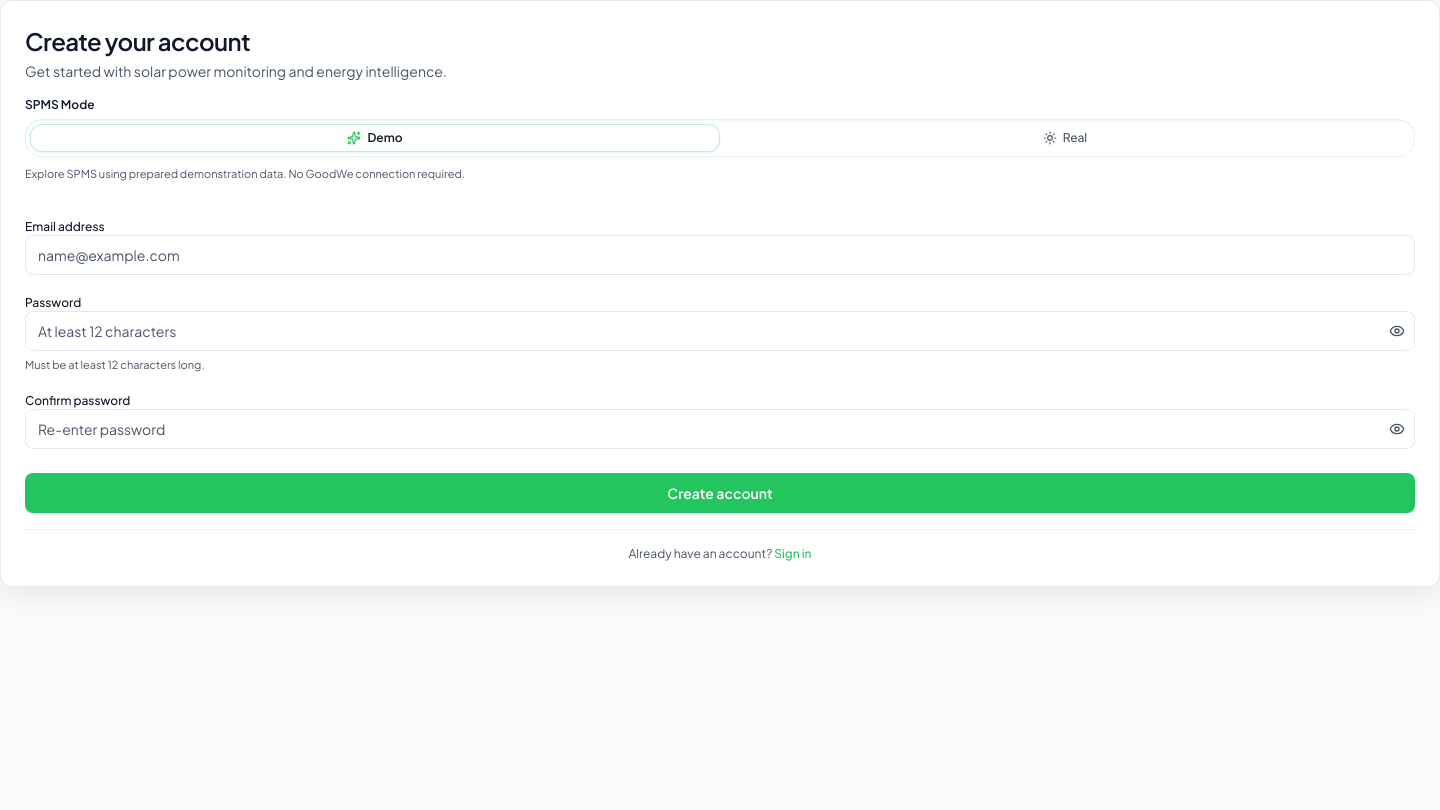
it: SPMS O2 Authentication Flow › Register page › validates required fields, email format, and password length client-side
The width and height of the screenshot is (1440, 810).
Click the button "Create account": (720, 493) [25, 473, 1415, 513]
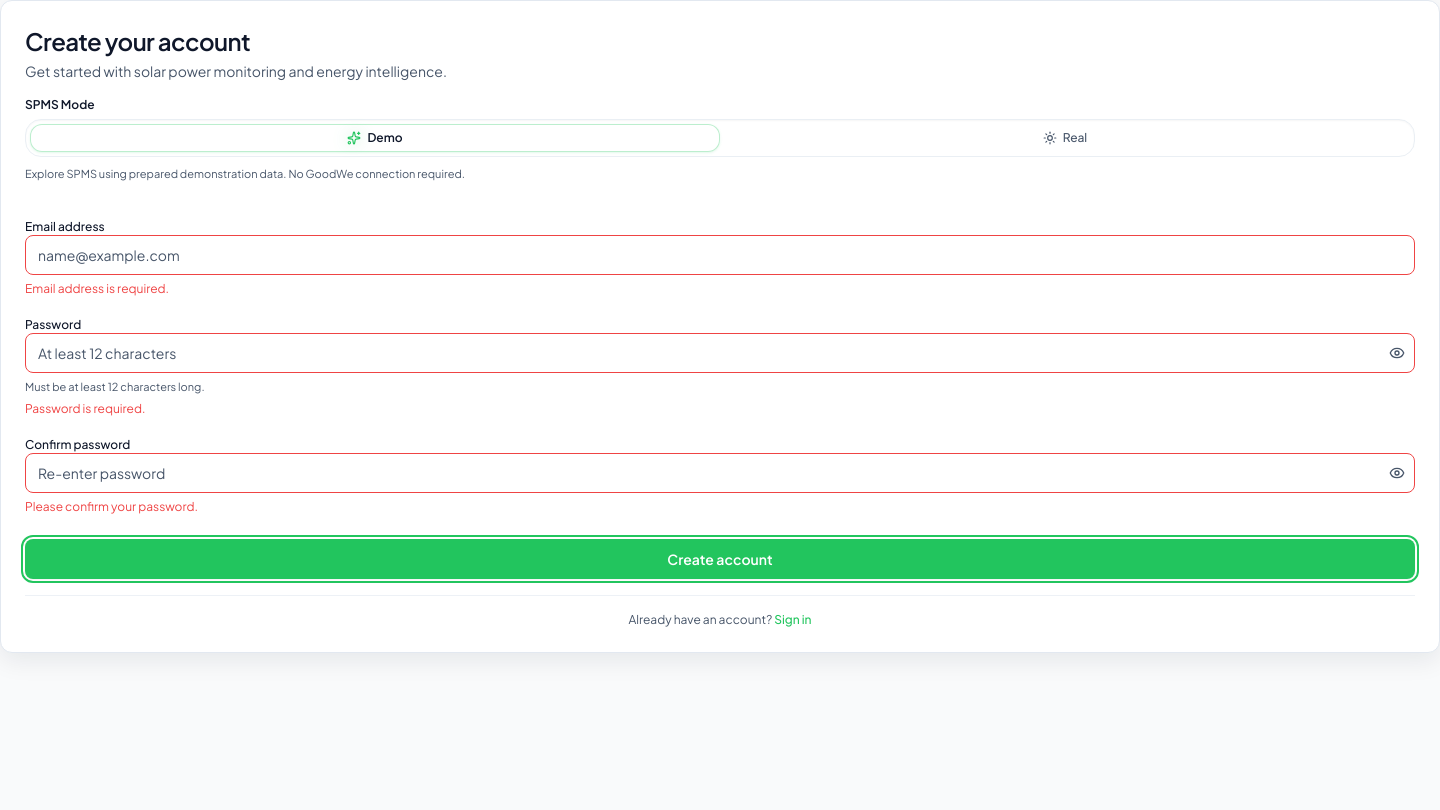
Expected: the text "Email address is required." is shown, [25, 281, 169, 296]
Expected: the text "Password is required." is shown, [25, 401, 145, 416]
// Invalid email
In the field labelled "Email address": (720, 255) [25, 235, 1415, 275], type "invalid-email"
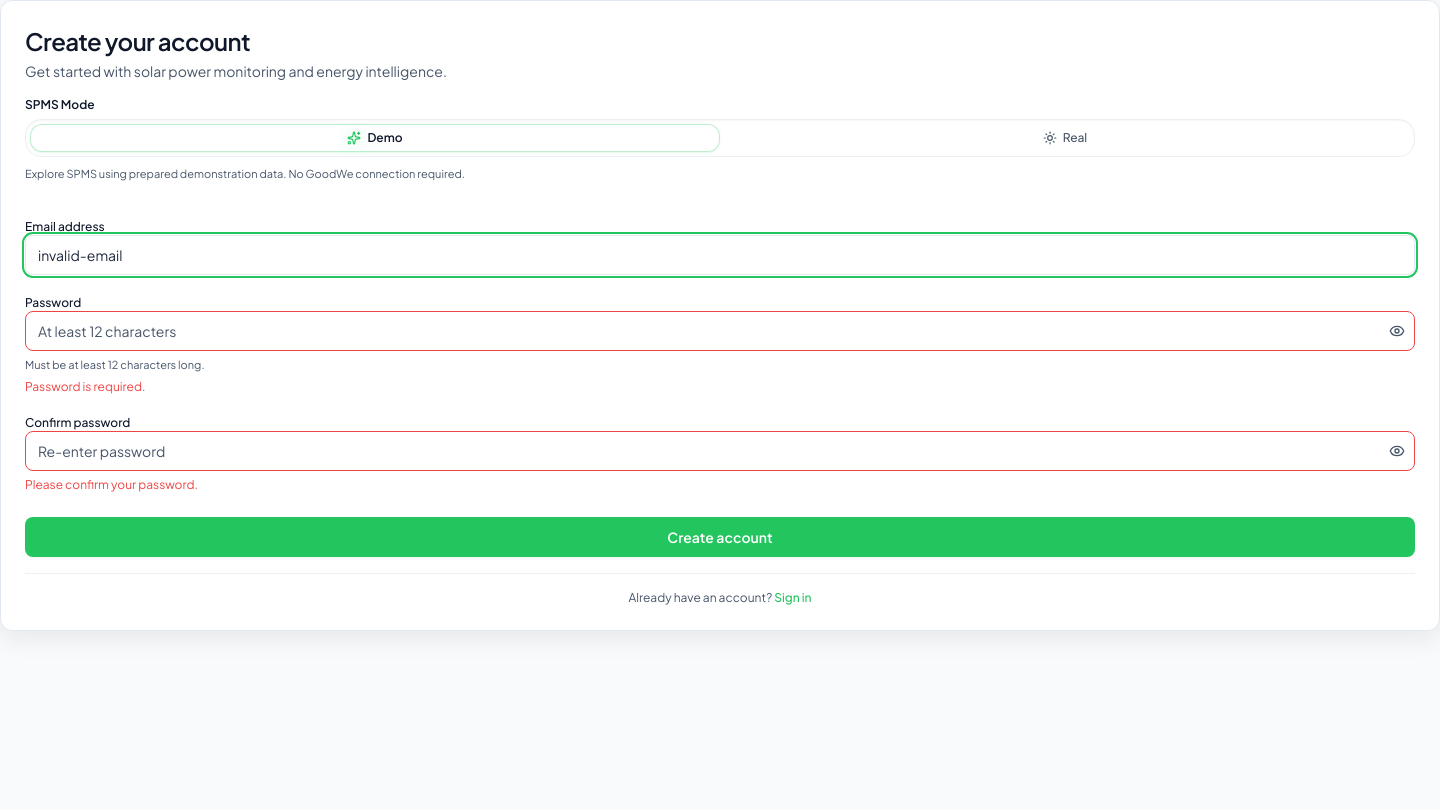
In the password field labelled "Password": (720, 331) [25, 311, 1415, 351], type "short12"
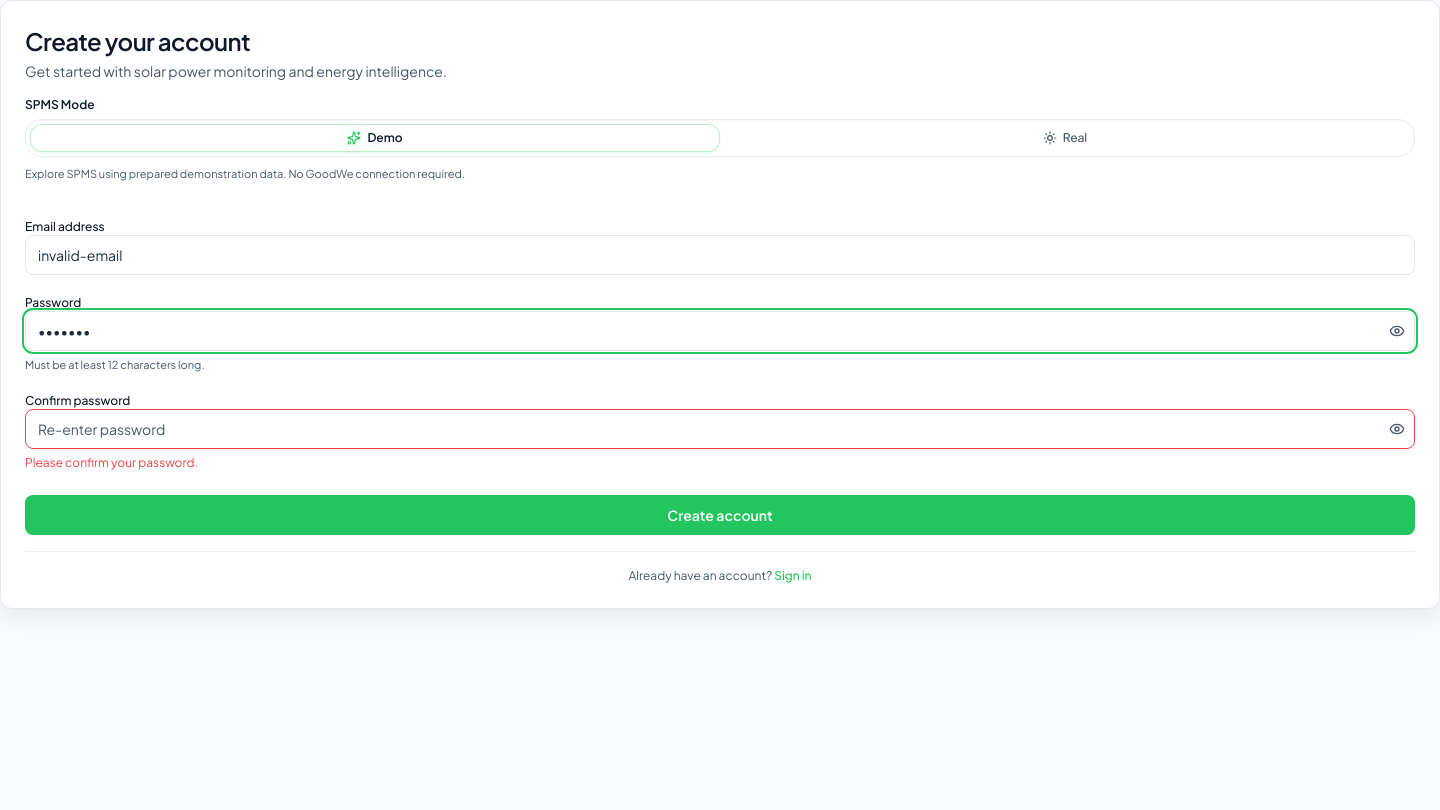
In the password field labelled "Confirm password": (720, 429) [25, 409, 1415, 449], type "different12"
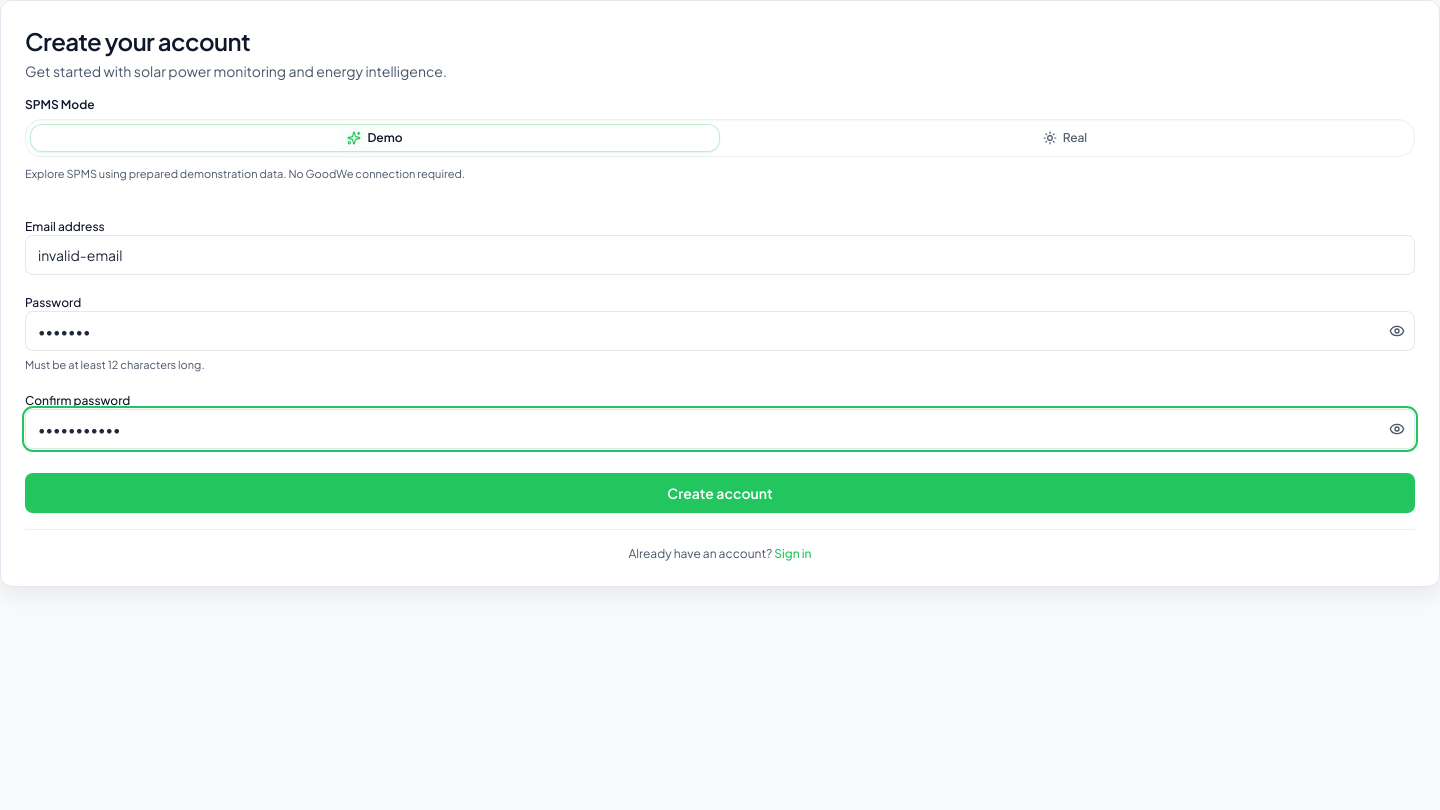
Click the button "Create account": (720, 493) [25, 473, 1415, 513]
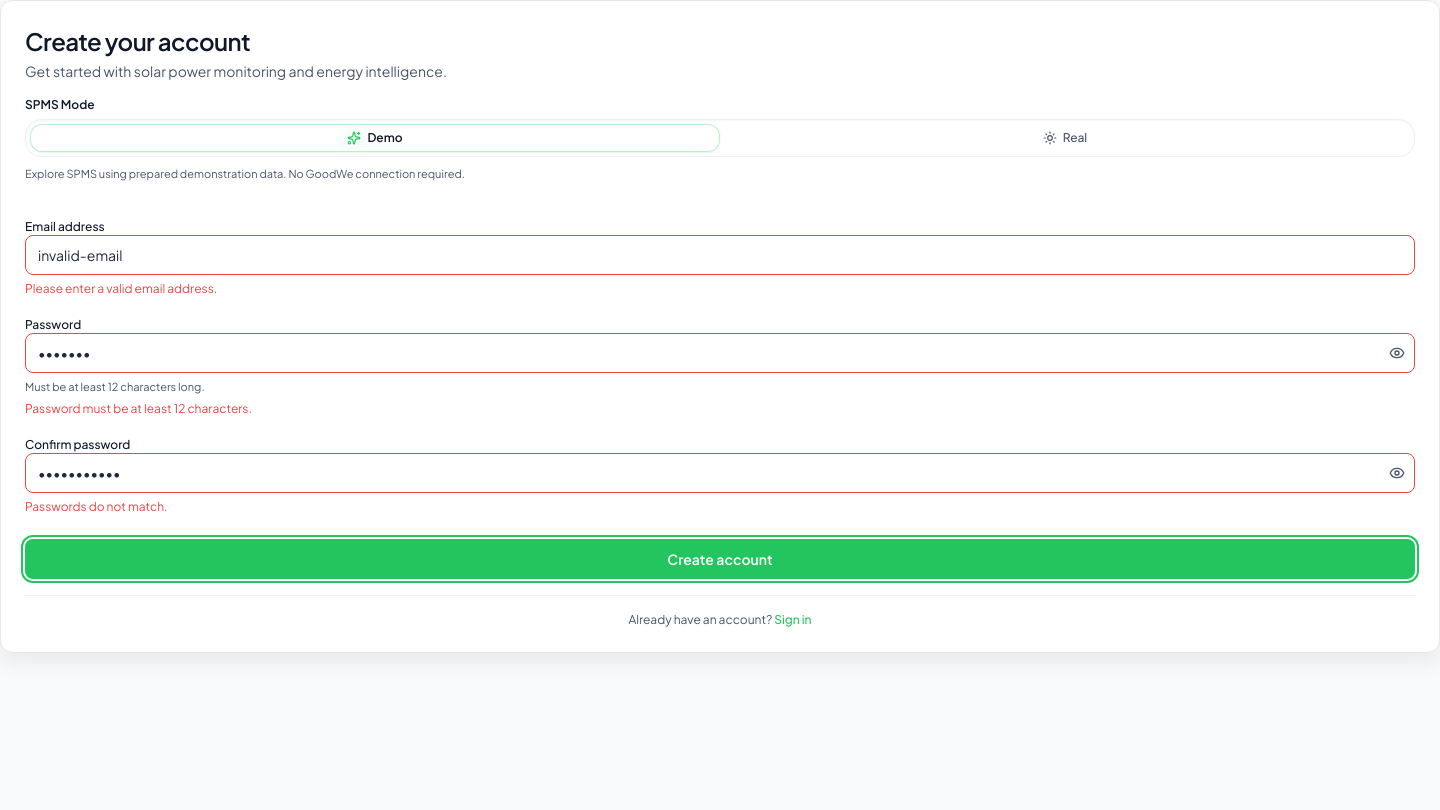
Expected: the text "Please enter a valid email address." is shown, [25, 281, 217, 296]
Expected: the text "Password must be at least 12 characters." is shown, [25, 401, 252, 416]
Expected: the text "Passwords do not match." is shown, [25, 499, 168, 514]
